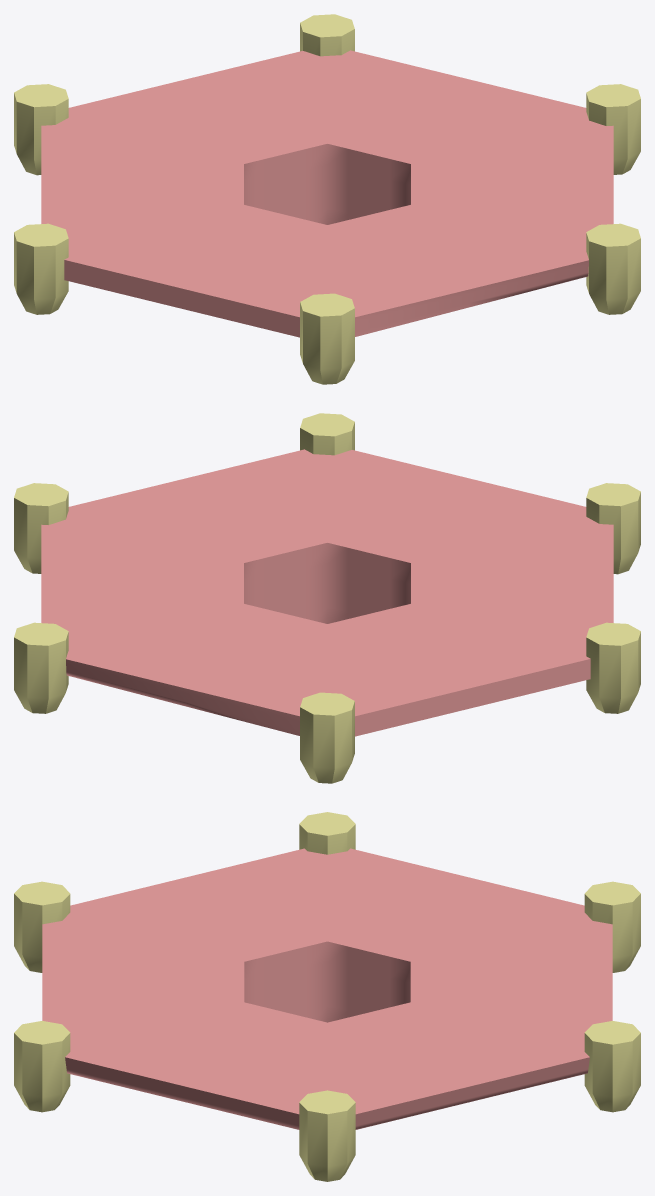
File: player_shooter_pad.glb
3 renders of one model, top to bottom at view 1: azimuth 30°, elevation 25°; view 2: azimuth 150°, elevation 25°; view 3: azimuth 270°, elevation 25°, orthographic.
Visible parts, largest first — view 1: platform, jet_06, jet_05, jet_01, jet_04, jet_02, jet_03; view 2: platform, jet_02, jet_03, jet_01, jet_04, jet_06, jet_05; view 3: platform, jet_04, jet_05, jet_03, jet_06, jet_02, jet_01.
Part boxes in pixels (box(x1,y1,x2,y2)): platform: box(41, 50, 613, 337); jet_06: box(300, 293, 354, 384); jet_05: box(586, 223, 640, 314); jet_01: box(14, 223, 68, 314); jet_04: box(586, 84, 640, 174); jet_02: box(14, 84, 68, 175); jet_03: box(300, 14, 354, 56); platform: box(41, 449, 613, 736); jet_02: box(300, 692, 354, 783); jet_03: box(14, 622, 68, 713); jet_01: box(586, 622, 640, 713); jet_04: box(14, 483, 68, 573); jet_06: box(586, 483, 640, 574); jet_05: box(300, 413, 354, 455); platform: box(42, 848, 612, 1129); jet_04: box(299, 1090, 355, 1181); jet_05: box(14, 1021, 70, 1112); jet_03: box(584, 1021, 640, 1112); jet_06: box(14, 881, 70, 972); jet_02: box(584, 881, 640, 972); jet_01: box(299, 812, 355, 854).
Size of what is drawn, in the model's own units: 1.93 by 0.31 by 1.69.
